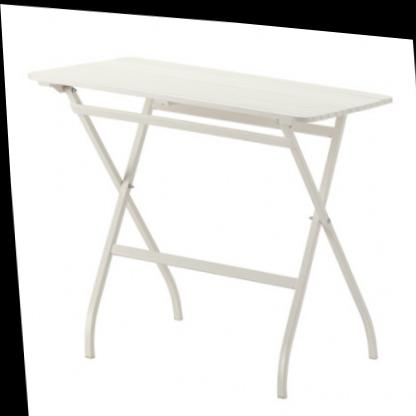Table: (21, 35, 416, 412)
